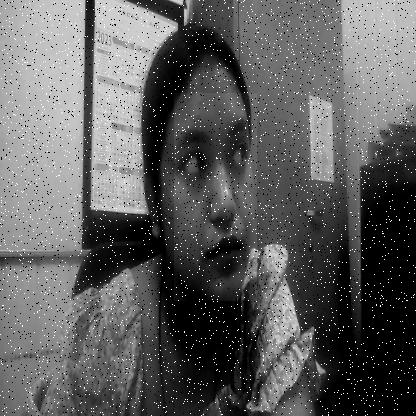Distracted: (174, 93, 257, 301)
